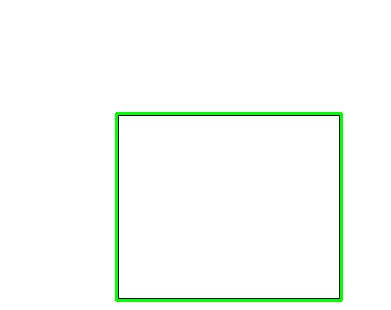line_segment: (115, 112, 343, 302)
